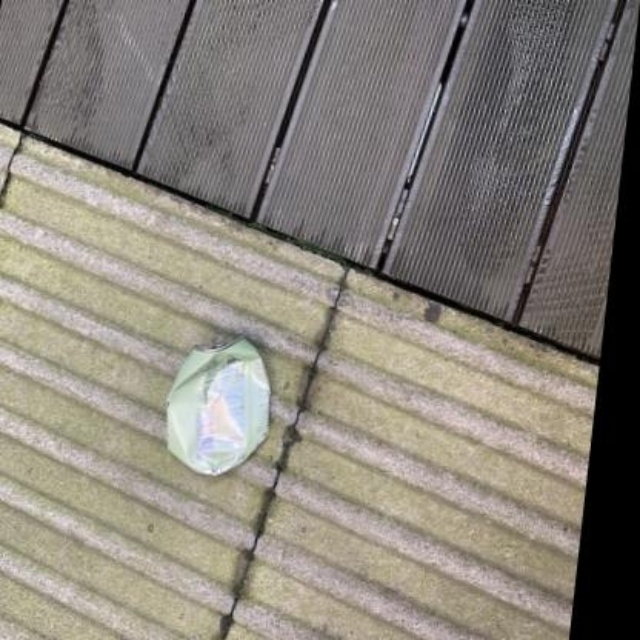trash: (168, 338, 269, 474)
